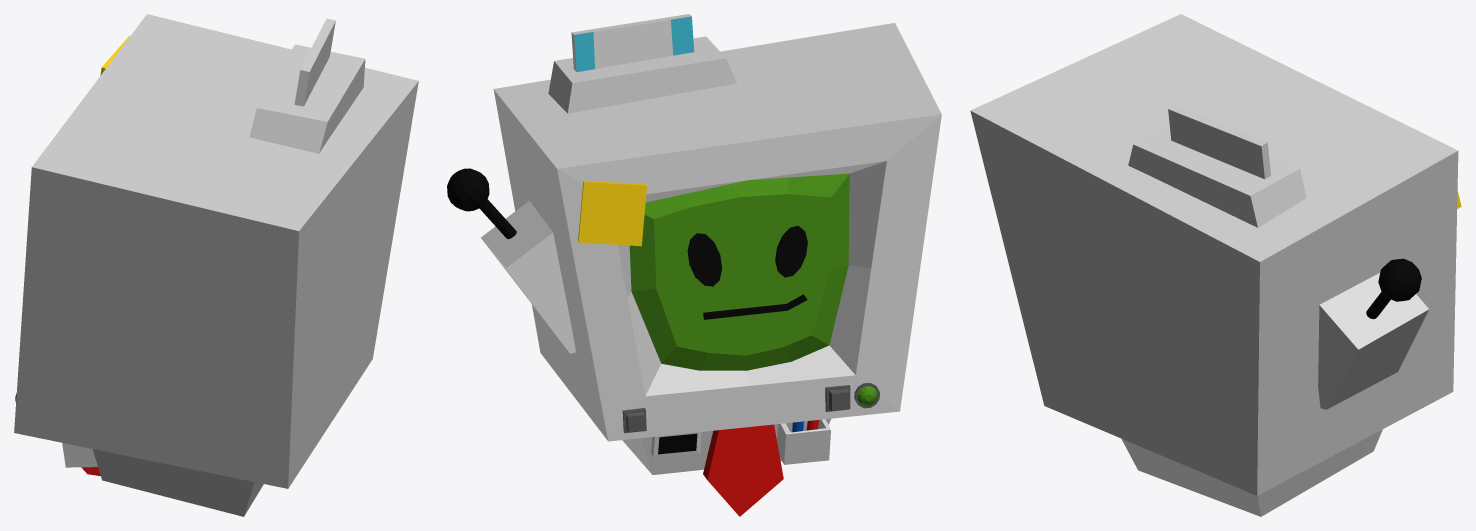
The model's file is Job Simulator Job Bot.fbx.
3 views of the same model, side by side, from view 1: azimuth 30°, elevation 25°; view 2: azimuth 150°, elevation 25°; view 3: azimuth 270°, elevation 25° (orthographic). The views are drawn at different scales.
Parts seen in each view (by area): view 1: group1822185605, group1038122071, group918953598, group1714249702; view 2: group1822185605, group1038122071, group1972360921, group956787077, group918953598, group1225689352, group1297319874, group1714249702, group1528649069, group1730555473, group1622865331, group1926155101 (+2 smaller); view 3: group1822185605, group1972360921, group1038122071, group918953598, group1297319874.
Boxes of the visible parts, x1,y1,x2,y2 form: group1822185605: (14, 14, 418, 516); group1038122071: (249, 44, 365, 153); group918953598: (294, 18, 335, 106); group1714249702: (62, 443, 97, 467); group1822185605: (493, 23, 941, 474); group1038122071: (548, 36, 736, 113); group1972360921: (481, 200, 575, 353); group956787077: (703, 424, 783, 516); group918953598: (571, 14, 694, 72); group1225689352: (578, 180, 646, 246); group1297319874: (447, 168, 516, 239); group1714249702: (777, 419, 830, 464); group1528649069: (687, 233, 722, 286); group1730555473: (775, 226, 807, 277); group1622865331: (651, 432, 701, 457); group1926155101: (703, 294, 807, 319); group1822185605: (970, 14, 1458, 516); group1972360921: (1318, 273, 1429, 409); group1038122071: (1128, 123, 1306, 227); group918953598: (1168, 105, 1270, 179); group1297319874: (1366, 258, 1421, 319).
Bounding box in the file's own units: 0.7637 × 0.7375 × 0.7863.
